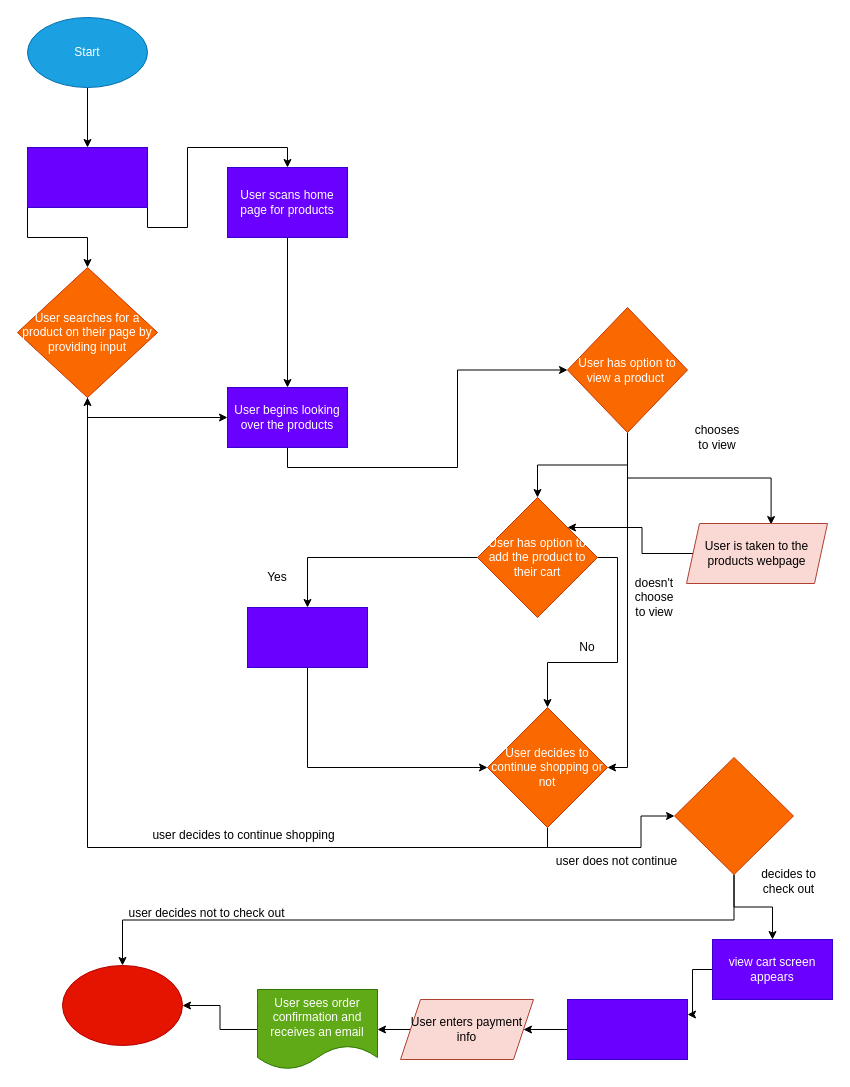
Some shapes in this 850 by 1087 pixel diagram are drawn without their labels. The shapes that lost their labels are listed below. From the top down, each one's centre as x and y in pixels, then its label:
At point (87, 177): "User enters website".
At point (307, 637): "They are given confrimation of the item being added".
At point (734, 815): "user decides to checkout or not".
At point (122, 1005): "Leave Website".
At point (627, 1029): "arrive at view payment screen".
